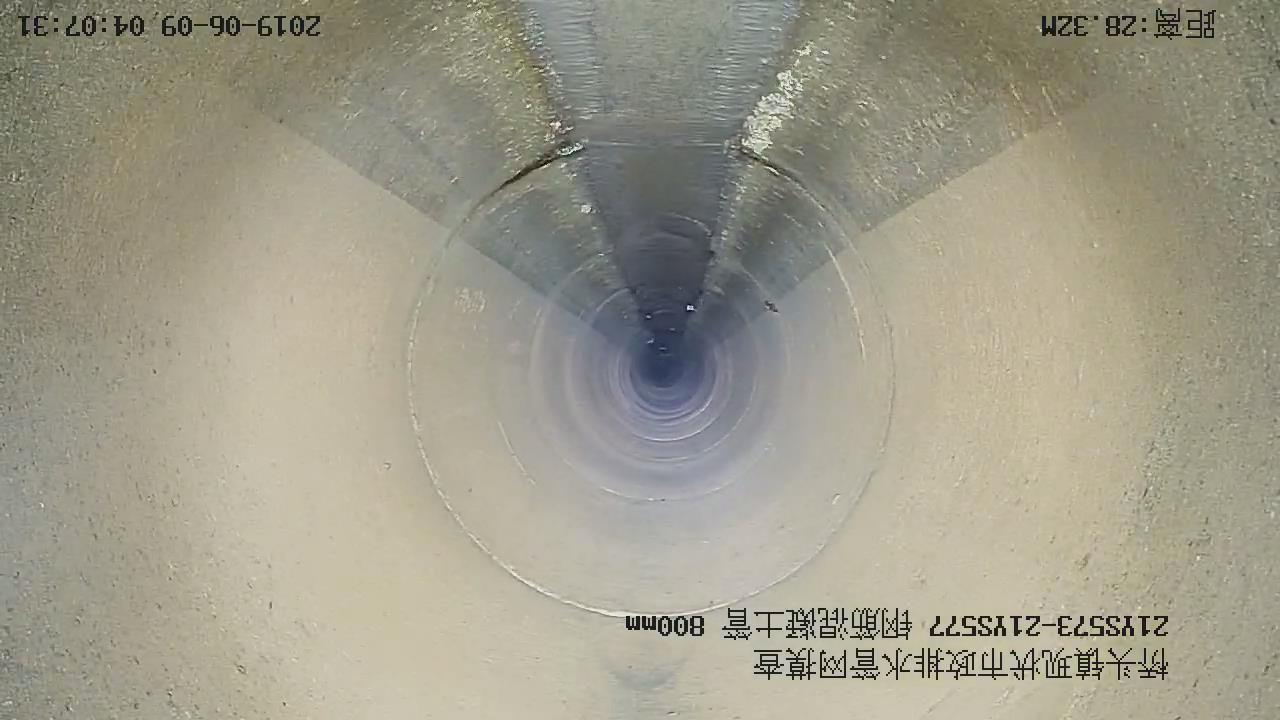CKTJ: (402, 137, 898, 626)
